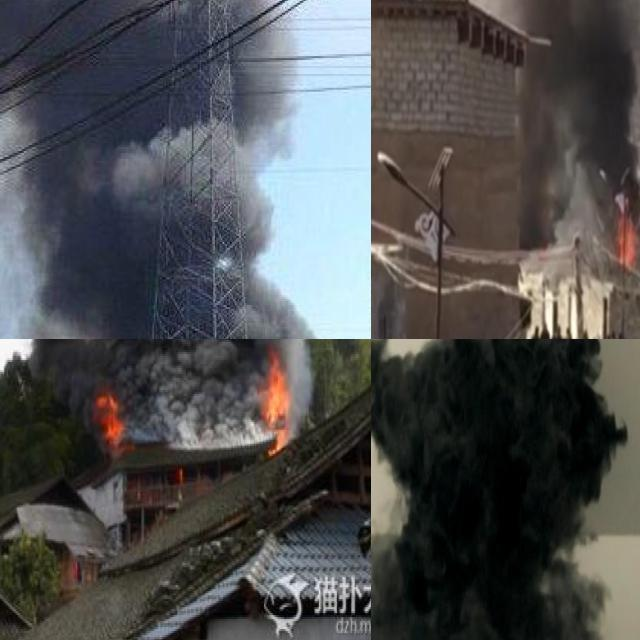fire: (260, 352, 290, 452), (95, 392, 124, 439), (615, 212, 639, 266), (173, 462, 185, 482)
smoke: (0, 0, 371, 339), (371, 339, 627, 640), (0, 339, 339, 441), (515, 0, 640, 250)
